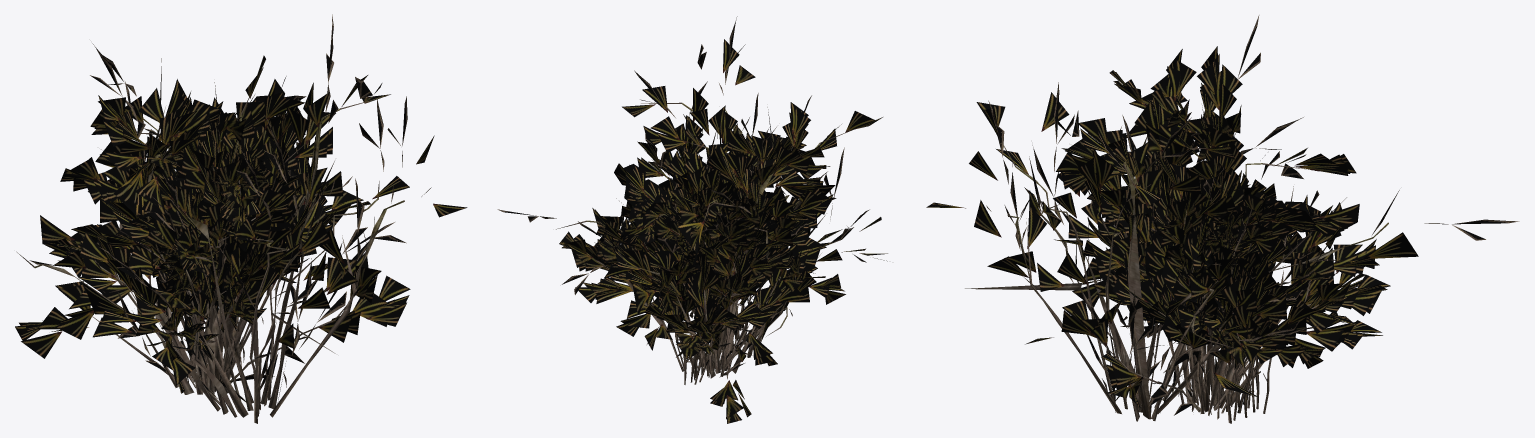
Rendered from plant_bush_dry_kit.glb.
3 views of the same model, side by side, from view 1: azimuth 30°, elevation 25°; view 2: azimuth 150°, elevation 25°; view 3: azimuth 270°, elevation 25° (orthographic). The views are drawn at different scales.
Visible parts, largest first — view 1: bush_01, bush_00, bush_02, bush_03, bush_04; view 2: bush_01, bush_02, bush_00, bush_03, bush_04; view 3: bush_01, bush_00, bush_02, bush_03, bush_04.
Boxes of the visible parts, box(x1,y1,x2,y2) form: bush_01: box(15, 43, 410, 394); bush_00: box(16, 14, 467, 423); bush_02: box(58, 122, 327, 394); bush_03: box(129, 79, 332, 394); bush_04: box(144, 229, 218, 370); bush_01: box(562, 102, 845, 423); bush_02: box(559, 127, 836, 382); bush_00: box(497, 16, 887, 357); bush_03: box(614, 151, 817, 373); bush_04: box(646, 240, 772, 384); bush_01: box(1061, 15, 1382, 415); bush_00: box(926, 82, 1519, 421); bush_02: box(1056, 96, 1390, 423); bush_03: box(1087, 149, 1359, 415); bush_04: box(1164, 242, 1275, 417).
Bounding box in the file's own units: 0.637 × 0.5425 × 0.8368.
3 materials, 3 textured.
